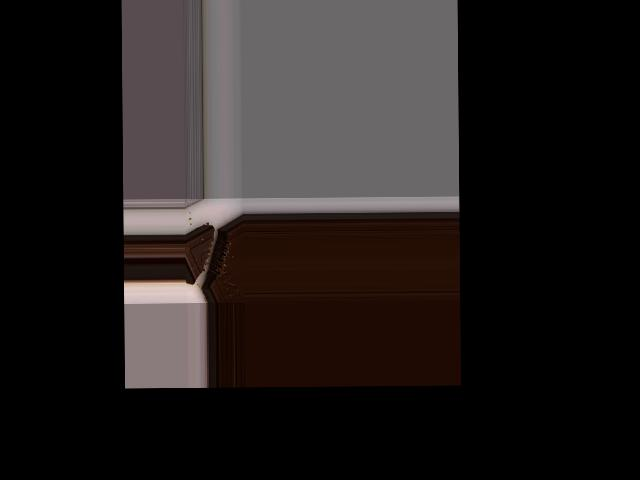chocolate: (184, 213, 242, 302)
